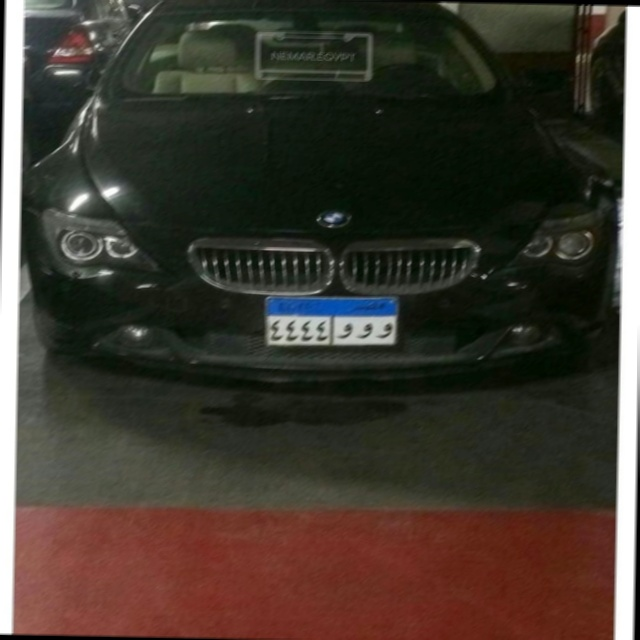License Plate: (261, 292, 404, 352)
